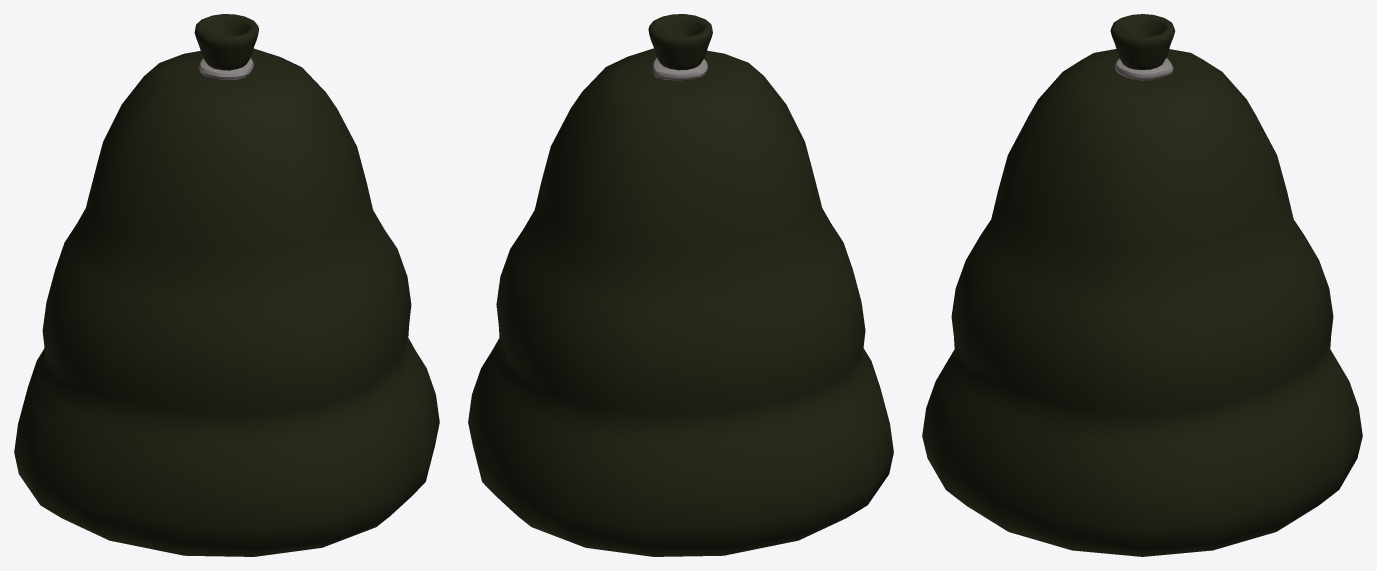
Rendered from BolsaN_01.fbx.
3 views of the same model, side by side, from view 1: azimuth 30°, elevation 25°; view 2: azimuth 150°, elevation 25°; view 3: azimuth 270°, elevation 25° (orthographic).
Visible parts, largest first — view 1: BolsaN_01; view 2: BolsaN_01; view 3: BolsaN_01.
Boxes of the visible parts, x1,y1,x2,y2 form: BolsaN_01: (14,14,439,556); BolsaN_01: (468,14,893,556); BolsaN_01: (922,14,1362,556).
Bounding box in the file's own units: 74.63 × 90.1 × 74.63.
